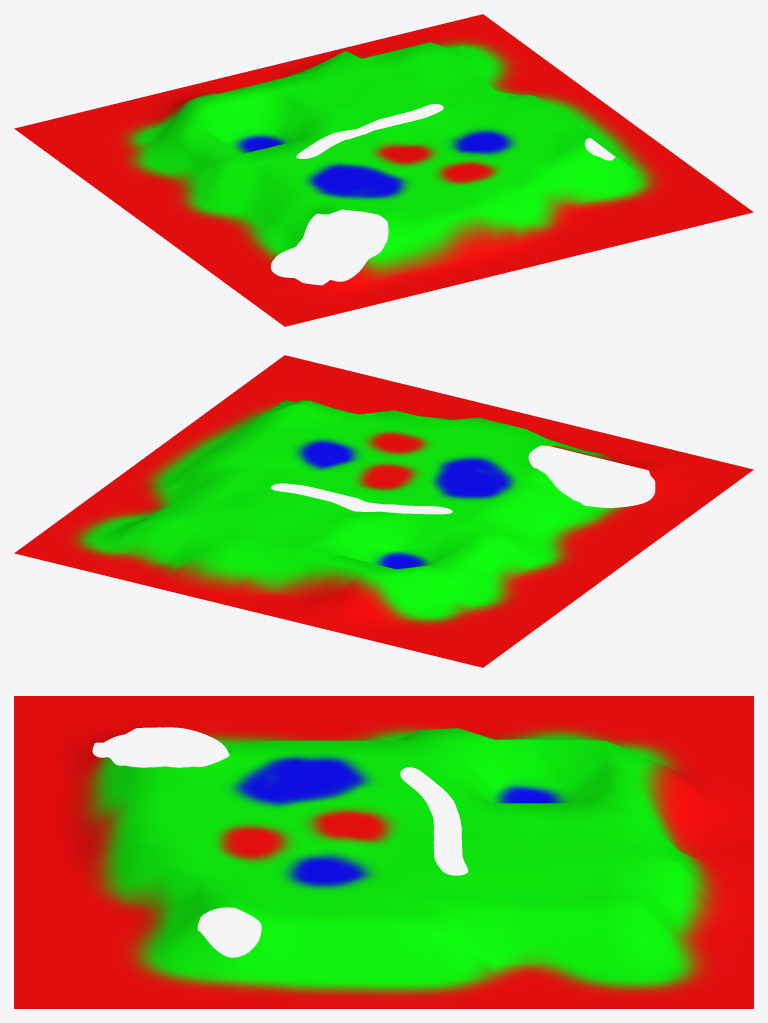
Rendered from splat_2.obj.
3 views of the same model, one above another, from view 1: azimuth 30°, elevation 25°; view 2: azimuth 150°, elevation 25°; view 3: azimuth 270°, elevation 25° (orthographic). The views are drawn at different scales.
Visible parts, largest first — view 1: Plane001; view 2: Plane001; view 3: Plane001.
Part boxes in pixels (x1=…): Plane001: x1=14, y1=14, x2=753, y2=326; Plane001: x1=14, y1=355, x2=753, y2=667; Plane001: x1=14, y1=696, x2=753, y2=1008.
Bounding box in the file's own units: 1000 × 75.77 × 1000.
